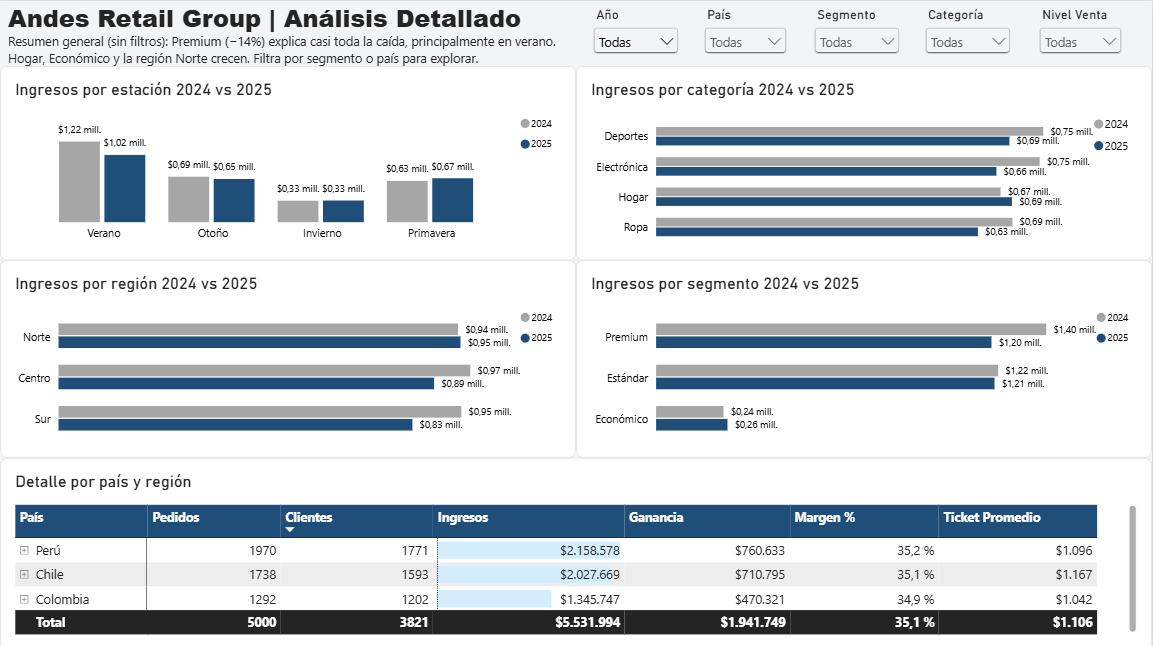

Layout of this report page (visuals, bound fields, positions):
{"tool":"powerbi","page":{"name":"Análisis Detallado","canvas":[1280,720],"ordinal":1},"visuals":[{"type":"textbox","box":[8.9,0,581.1,40],"z":0},{"type":"slicer","fields":{"Values":["Calendario.Año"]},"box":[654.3,6.9,104.4,55.2],"z":1000},{"type":"slicer","fields":{"Values":["Ventas.País"]},"box":[1776.7,5,143.3,152.2],"z":2000},{"type":"slicer","fields":{"Values":["Ventas.País"]},"box":[777.5,6.9,100.5,55.2],"z":3000},{"type":"slicer","fields":{"Values":["Ventas.Segmento_Cliente"]},"box":[899.6,6.9,104.4,55.2],"z":4000},{"type":"slicer","fields":{"Values":["Ventas.Nivel_Venta"]},"box":[1149.9,6.9,100.5,55.2],"z":5000},{"type":"slicer","fields":{"Values":["Ventas.Categoría_Producto"]},"box":[1023.8,6.9,104.4,55.2],"z":6000},{"type":"clusteredColumnChart","title":"Ingresos por estación 2024 vs 2025","fields":{"Category":["Ventas.Estación"],"Series":["Calendario.Año"],"Y":["Ventas.Ingresos"]},"box":[0,72.2,640,215.6],"z":7000},{"type":"clusteredBarChart","title":"Ingresos por segmento 2024 vs 2025","fields":{"Category":["Ventas.Segmento_Cliente"],"Series":["Calendario.Año"],"Y":["Ventas.Ingresos"]},"box":[639.5,287.7,640.5,220],"z":8000},{"type":"clusteredBarChart","title":"Ingresos por categoría 2024 vs 2025","fields":{"Category":["Ventas.Categoría_Producto"],"Series":["Calendario.Año"],"Y":["Ventas.Ingresos"]},"box":[640,72.2,640,215.6],"z":9000},{"type":"clusteredBarChart","title":"Ingresos por región 2024 vs 2025","fields":{"Category":["Ventas.Región"],"Series":["Calendario.Año"],"Y":["Ventas.Ingresos"]},"box":[0,287.7,640.5,220],"z":10000},{"type":"pivotTable","title":"Detalle por país y región","fields":{"Rows":["Ventas.País","Ventas.Región"],"Values":["Ventas.Pedidos","Ventas.Clientes Únicos","Ventas.Ingresos","Ventas.Ganancia","Ventas.Margen %","Ventas.Ticket Promedio"]},"box":[0,507.5,1280,212.8],"z":11000},{"type":"textbox","box":[8.9,34.4,631.1,37.8],"z":12000}]}

Visuals, with their boxes in screenshot pixels (x1, y1, x2, y2), scaled from the page's 1280x720 canvas onto the 1153x646 screenshot:
textbox: {"left": 8, "top": 0, "right": 531, "bottom": 36}
slicer - Calendario.Año: {"left": 589, "top": 6, "right": 683, "bottom": 56}
slicer - Ventas.País: {"left": 700, "top": 6, "right": 791, "bottom": 56}
slicer - Ventas.Segmento_Cliente: {"left": 810, "top": 6, "right": 904, "bottom": 56}
slicer - Ventas.Nivel_Venta: {"left": 1036, "top": 6, "right": 1126, "bottom": 56}
slicer - Ventas.Categoría_Producto: {"left": 922, "top": 6, "right": 1016, "bottom": 56}
"Ingresos por estación 2024 vs 2025" clusteredColumnChart: {"left": 0, "top": 65, "right": 576, "bottom": 258}
"Ingresos por segmento 2024 vs 2025" clusteredBarChart: {"left": 576, "top": 258, "right": 1152, "bottom": 456}
"Ingresos por categoría 2024 vs 2025" clusteredBarChart: {"left": 576, "top": 65, "right": 1152, "bottom": 258}
"Ingresos por región 2024 vs 2025" clusteredBarChart: {"left": 0, "top": 258, "right": 577, "bottom": 456}
"Detalle por país y región" pivotTable: {"left": 0, "top": 455, "right": 1152, "bottom": 645}
textbox: {"left": 8, "top": 31, "right": 576, "bottom": 65}
